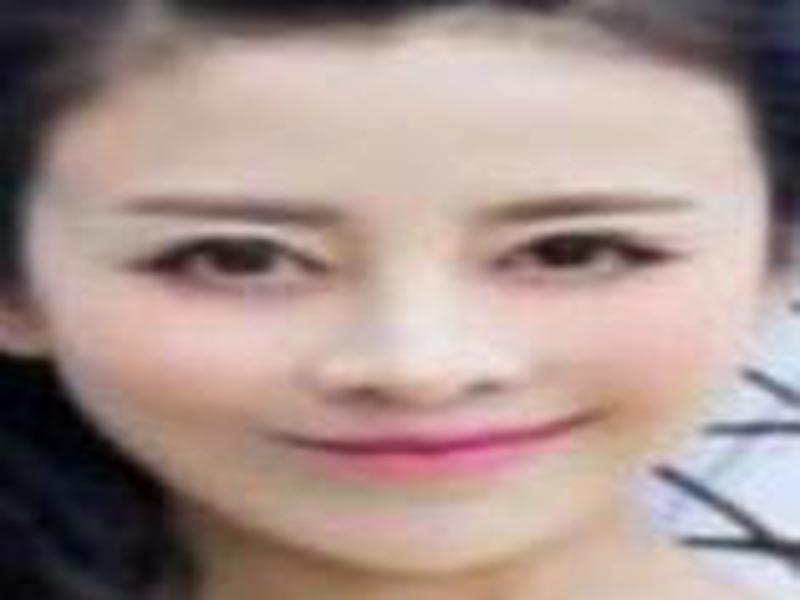without_mask: (29, 21, 772, 584)
